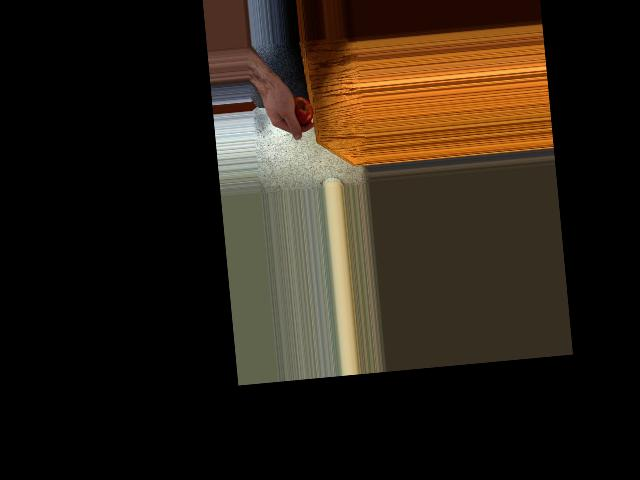apple: (286, 99, 317, 130)
